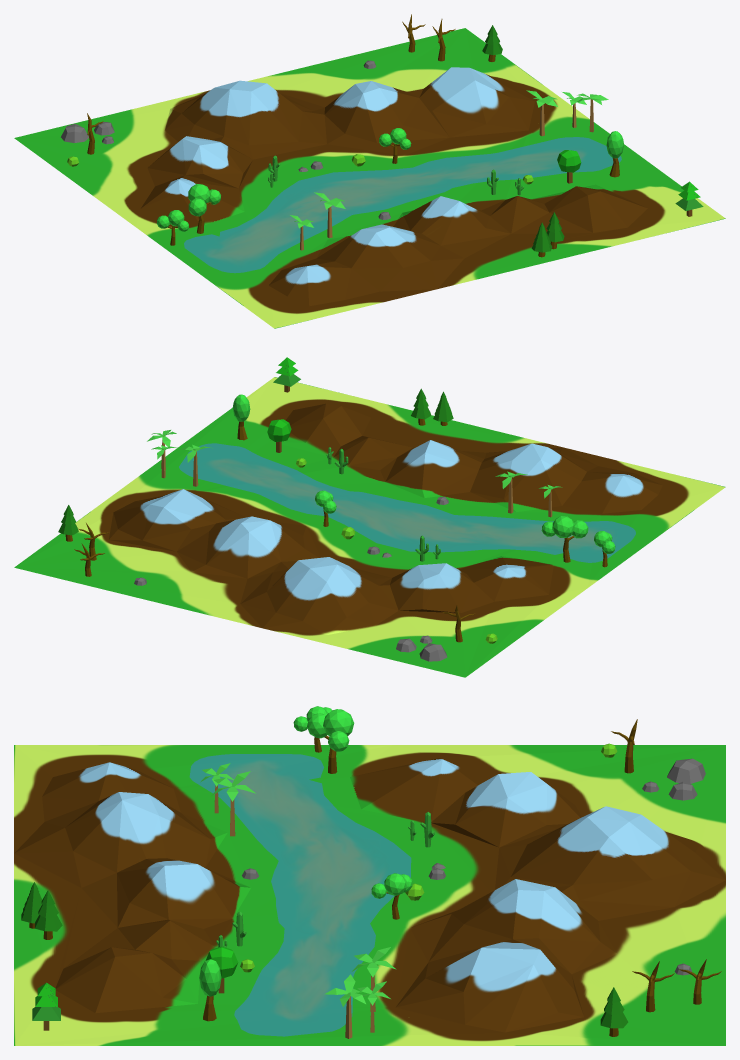
The model's file is landscape.gltf.
The picture shows the model from 3 angles, top to bottom: view 1: azimuth 30°, elevation 25°; view 2: azimuth 150°, elevation 25°; view 3: azimuth 270°, elevation 25°; orthographic projection. The views are drawn at different scales.
Parts seen in each view (by area): view 1: Grid, Plane, Icosphere.002, Spruce, Tree; view 2: Grid, Plane, Icosphere.002, Tree; view 3: Grid, Plane, Icosphere.002, Spruce, Cube.005, Palm.004, Cone.001, Tree, Icosphere.004, Cone.002, Palm, Icosphere.001 (+1 smaller).
Part boxes in pixels (left/top/right/bottom): Grid: left=14, top=28, right=725, bottom=328; Plane: left=184, top=137, right=621, bottom=272; Icosphere.002: left=188, top=184, right=220, bottom=216; Spruce: left=675, top=181, right=703, bottom=216; Tree: left=557, top=150, right=581, bottom=183; Grid: left=14, top=377, right=725, bottom=677; Plane: left=179, top=443, right=635, bottom=562; Icosphere.002: left=541, top=516, right=588, bottom=538; Tree: left=267, top=419, right=291, bottom=452; Grid: left=14, top=745, right=725, bottom=1045; Plane: left=189, top=754, right=411, bottom=1036; Icosphere.002: left=307, top=709, right=354, bottom=751; Spruce: left=32, top=982, right=60, bottom=1030; Cube.005: left=667, top=758, right=705, bottom=783; Palm.004: left=324, top=974, right=365, bottom=1038; Cone.001: left=600, top=987, right=628, bottom=1028; Tree: left=205, top=946, right=238, bottom=993; Icosphere.004: left=371, top=873, right=412, bottom=898; Cone.002: left=35, top=890, right=62, bottom=931; Palm: left=211, top=771, right=255, bottom=836; Icosphere.001: left=199, top=959, right=221, bottom=996.
Bounding box in the file's own units: 50.71 × 5.35 × 50.
Materials: 11 (6 with a texture image).
